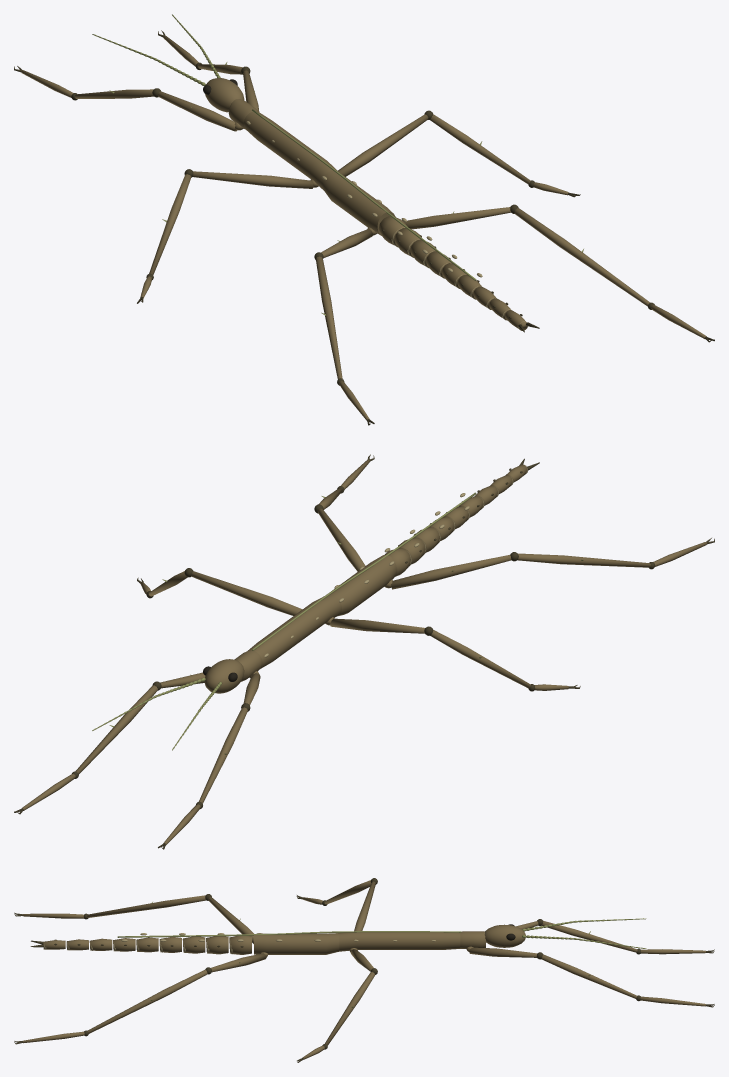
File: StickInsect.fbx
The picture shows the model from 3 angles, top to bottom: view 1: azimuth 30°, elevation 25°; view 2: azimuth 150°, elevation 25°; view 3: azimuth 270°, elevation 25°; orthographic projection. The views are drawn at different scales.
Parts seen in each view (by area): view 1: Material group StickInsect_TwigBrown, Material group StickInsect_OliveRidges, Material group StickInsect_DarkJoints; view 2: Material group StickInsect_TwigBrown, Material group StickInsect_OliveRidges, Material group StickInsect_DarkJoints; view 3: Material group StickInsect_TwigBrown, Material group StickInsect_OliveRidges, Material group StickInsect_DarkJoints, Material group StickInsect_PaleNodes.
Part boxes in pixels (x1=…): Material group StickInsect_TwigBrown: x1=21, y1=35, x2=706, y2=420; Material group StickInsect_OliveRidges: x1=92, y1=14, x2=583, y2=315; Material group StickInsect_DarkJoints: x1=14, y1=30, x2=714, y2=425; Material group StickInsect_TwigBrown: x1=21, y1=459, x2=706, y2=845; Material group StickInsect_OliveRidges: x1=92, y1=492, x2=583, y2=754; Material group StickInsect_DarkJoints: x1=14, y1=454, x2=714, y2=849; Material group StickInsect_TwigBrown: x1=22, y1=880, x2=705, y2=1059; Material group StickInsect_OliveRidges: x1=117, y1=902, x2=646, y2=1007; Material group StickInsect_DarkJoints: x1=14, y1=878, x2=714, y2=1062; Material group StickInsect_PaleNodes: x1=44, y1=933, x2=435, y2=954.
Size of the model in its own units: 0.5619 by 0.089 by 1.
